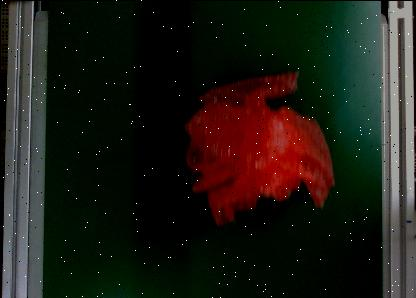Others: (182, 68, 336, 228)
